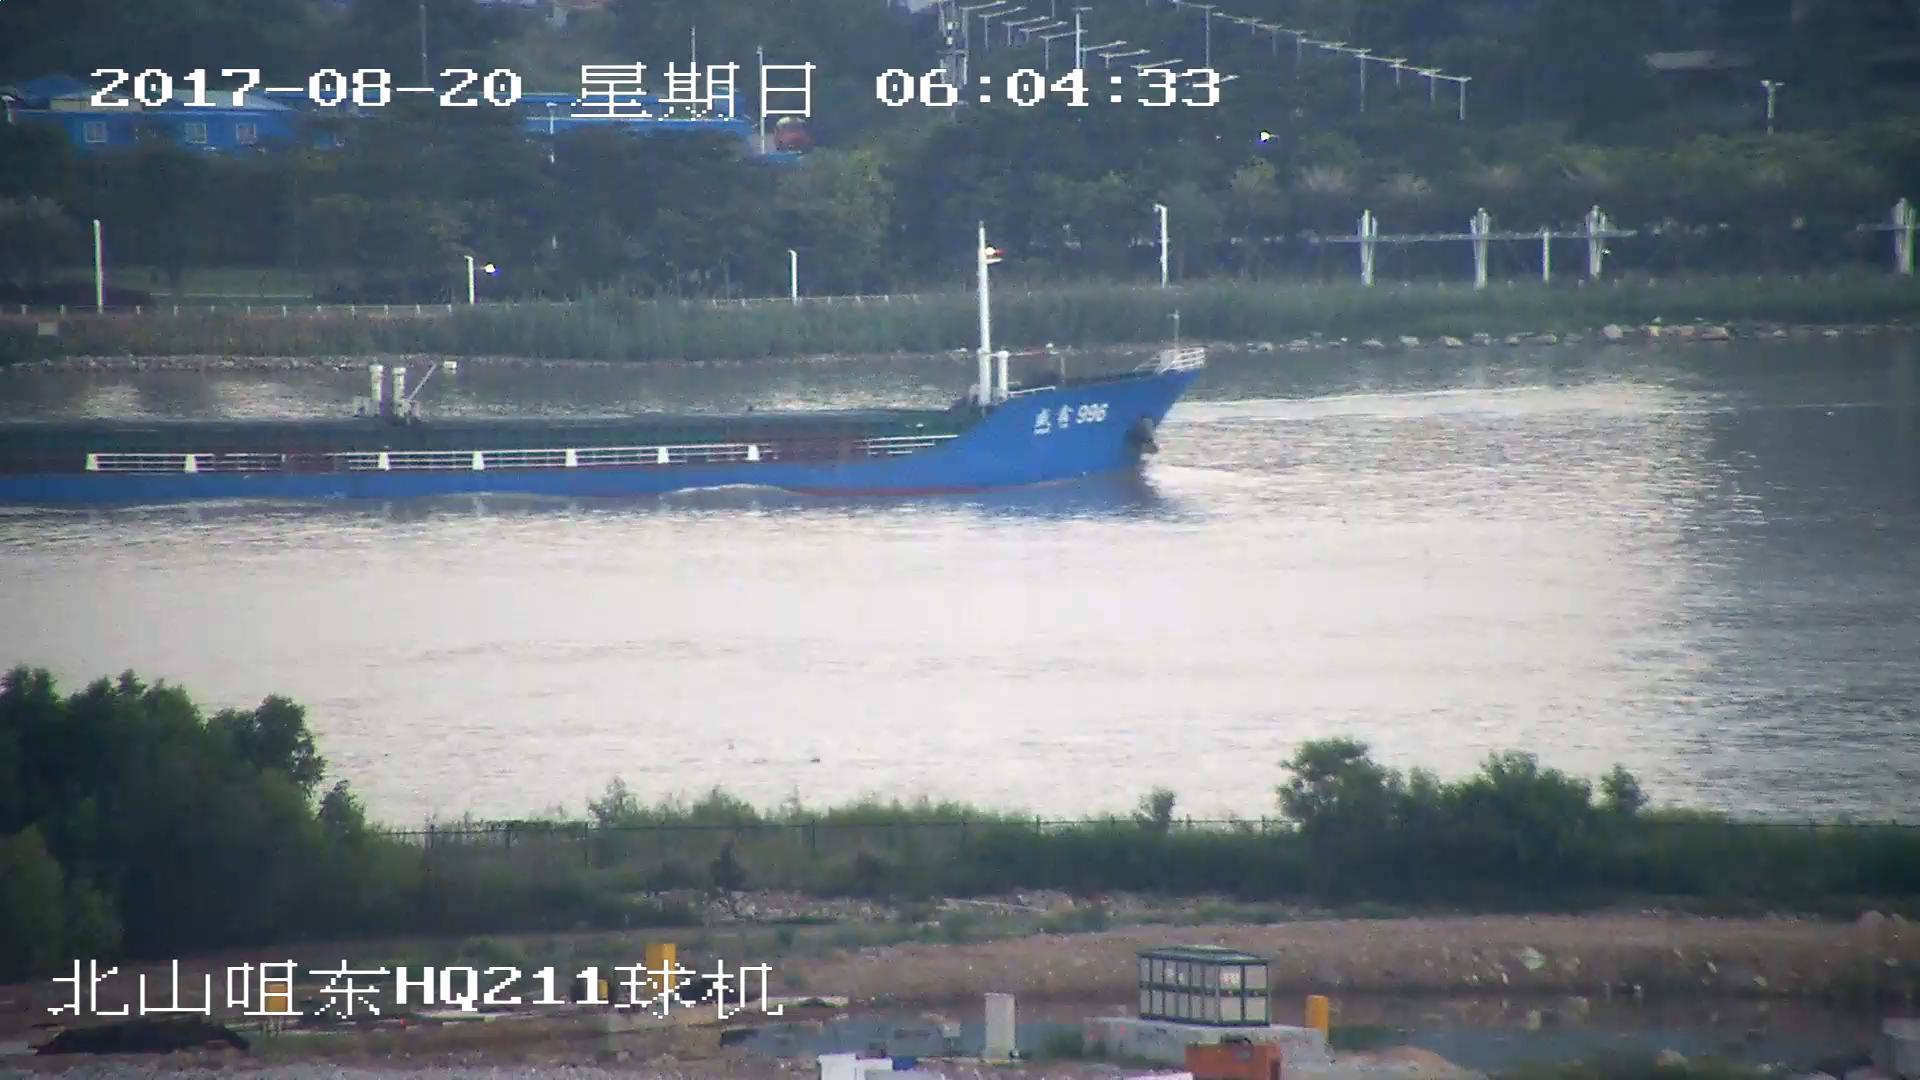Ship: (3, 265, 1197, 495)
